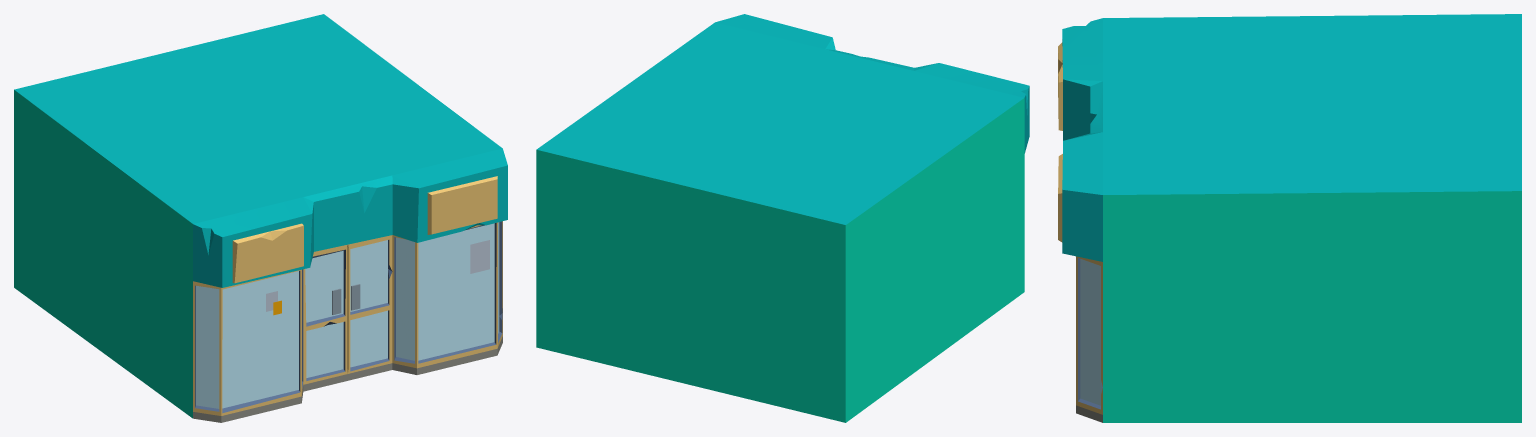
Rendered from SM_Bld_Shop_01_edit.fbx.
3 renders of one model, left to right at view 1: azimuth 30°, elevation 25°; view 2: azimuth 150°, elevation 25°; view 3: azimuth 270°, elevation 25°, orthographic. The views are drawn at different scales.
Parts seen in each view (by area): view 1: SM_Bld_Shop_01; view 2: SM_Bld_Shop_01; view 3: SM_Bld_Shop_01.
Boxes of the visible parts, left/top/right/bottom form: SM_Bld_Shop_01: left=14, top=14, right=507, bottom=422; SM_Bld_Shop_01: left=536, top=14, right=1029, bottom=422; SM_Bld_Shop_01: left=1058, top=14, right=1521, bottom=422.
Size of the model in its own units: 500 by 305 by 554.
